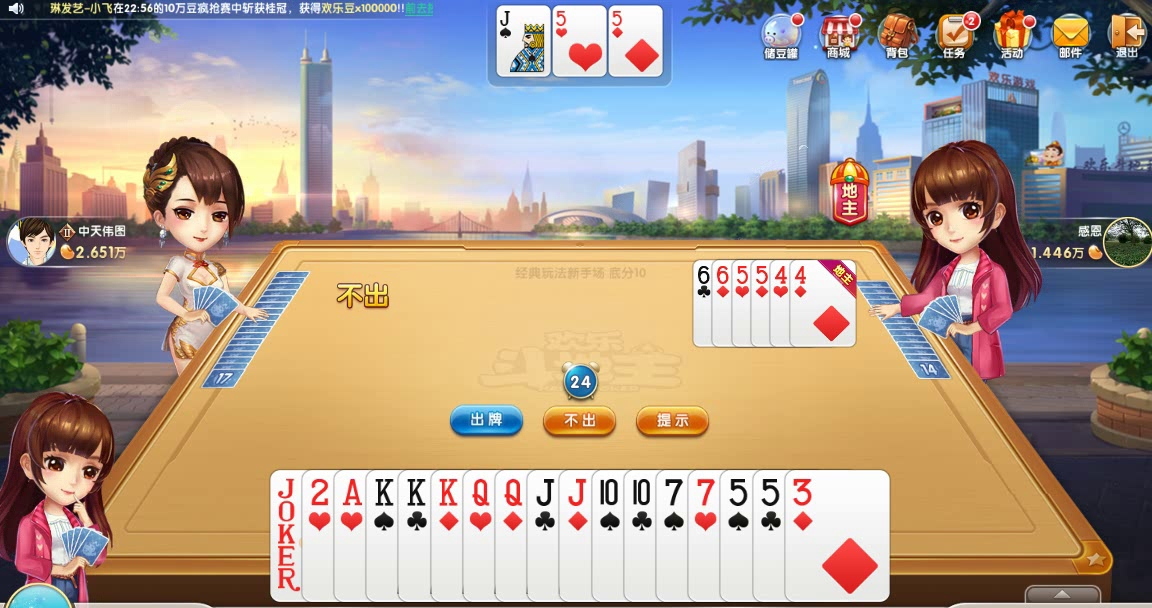10~2: (622, 469, 729, 602)
10~4: (591, 469, 698, 602)
11~1: (558, 469, 665, 602)
11~2: (525, 469, 632, 602)
11~4: (497, 4, 552, 77)
12~1: (494, 469, 601, 602)
12~3: (460, 469, 567, 602)
13~1: (430, 469, 537, 602)
13~2: (397, 469, 504, 602)
13~4: (365, 469, 472, 602)
14~3: (332, 469, 439, 602)
15~3: (300, 469, 407, 602)
18~4: (269, 469, 376, 602)
3~1: (783, 469, 890, 602)
4~1: (790, 260, 856, 347)
4~3: (769, 260, 835, 347)
5~1: (750, 260, 816, 347), (609, 4, 664, 77)
5~2: (752, 469, 859, 602)
5~3: (731, 260, 797, 347), (552, 4, 607, 77)
5~4: (718, 469, 825, 602)
6~1: (711, 260, 777, 347)
6~2: (693, 260, 759, 347)
7~3: (686, 469, 793, 602)
7~4: (655, 469, 762, 602)
